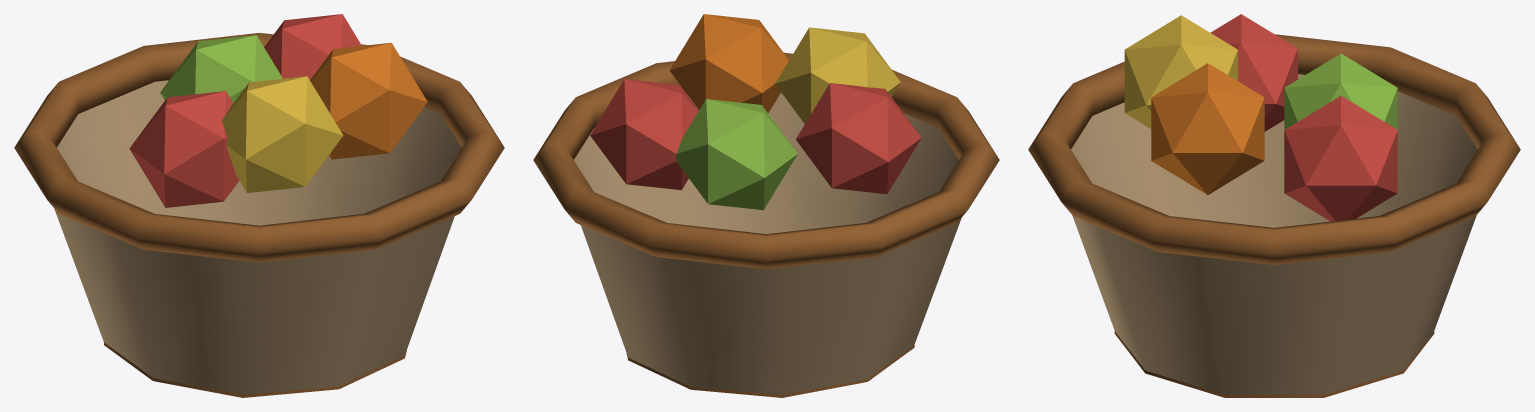
The model's file is produceBasket.glb.
3 views of the same model, side by side, from view 1: azimuth 30°, elevation 25°; view 2: azimuth 150°, elevation 25°; view 3: azimuth 270°, elevation 25° (orthographic). The views are drawn at different scales.
Visible parts, largest first — view 1: produceBasket_mesh; view 2: produceBasket_mesh; view 3: produceBasket_mesh.
Part boxes in pixels (x1=…): produceBasket_mesh: x1=14, y1=14, x2=504, y2=397; produceBasket_mesh: x1=533, y1=14, x2=999, y2=397; produceBasket_mesh: x1=1028, y1=14, x2=1520, y2=397.
Size of the model in its own units: 0.74 by 0.4801 by 0.74.
